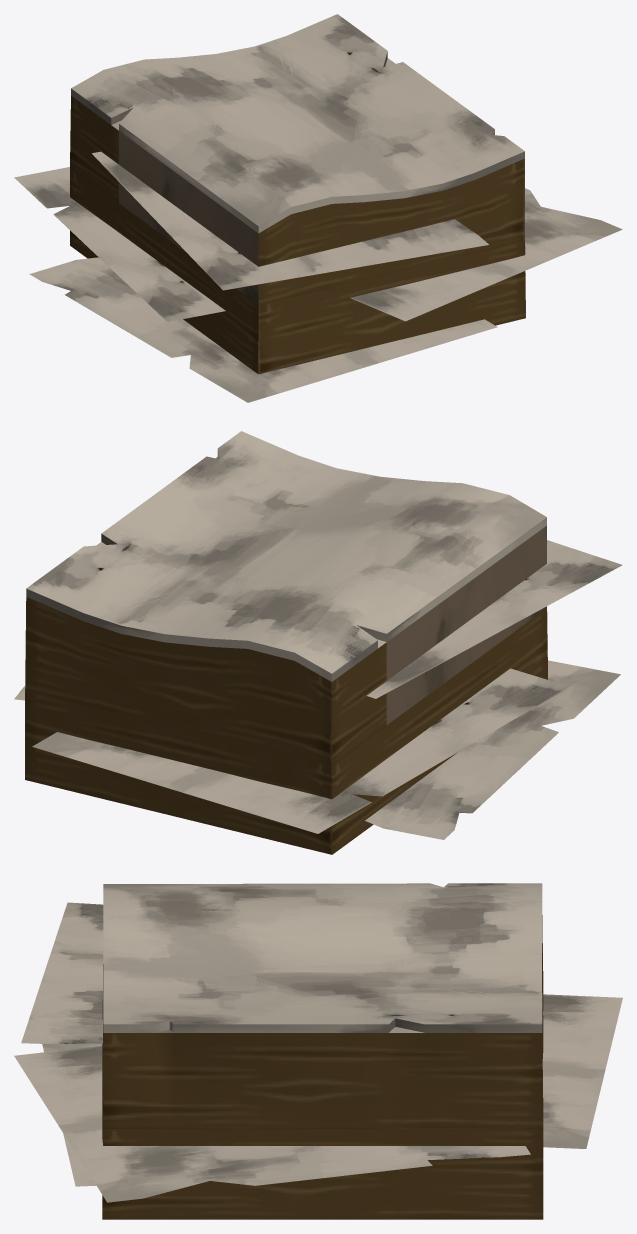
File: Page_Stack_Large.gltf
3 views of the same model, one above another, from view 1: azimuth 30°, elevation 25°; view 2: azimuth 150°, elevation 25°; view 3: azimuth 270°, elevation 25° (orthographic). The views are drawn at different scales.
Parts seen in each view (by area): view 1: Page_Stack_Large; view 2: Page_Stack_Large; view 3: Page_Stack_Large.
Boxes of the visible parts, x1,y1,x2,y2 form: Page_Stack_Large: (14, 14, 622, 402); Page_Stack_Large: (14, 431, 622, 854); Page_Stack_Large: (14, 883, 622, 1219).
Size of the model in its own units: 0.3176 by 0.1172 by 0.3285.
Materials: 3 (3 with a texture image).
